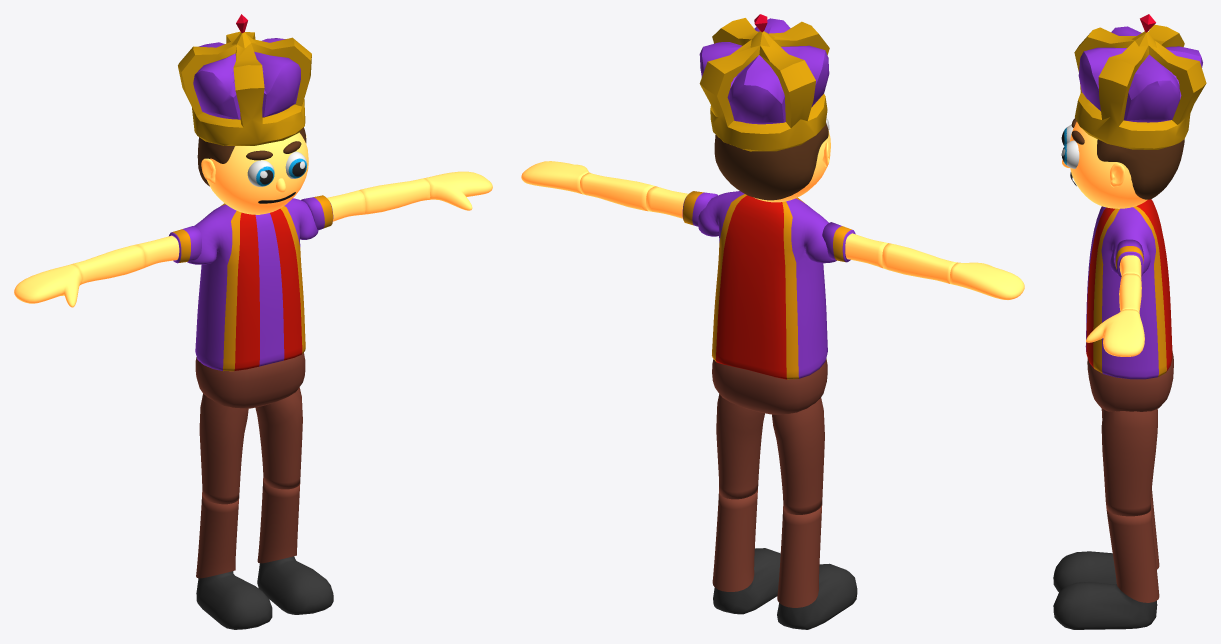
3 views of the same model, side by side, from view 1: azimuth 30°, elevation 25°; view 2: azimuth 150°, elevation 25°; view 3: azimuth 270°, elevation 25° (orthographic). The views are drawn at different scales.
Visible parts, largest first — view 1: body, Crown, head, r_upper_leg, pelvis, l_upper_leg, r_foot, l_foot, r_leg, l_leg, r_hand, l_hand (+4 smaller); view 2: body, Crown, head, r_upper_leg, pelvis, l_upper_leg, r_leg, l_leg, r_foot, l_foot, r_hand, r_forearm (+4 smaller); view 3: Crown, body, head, l_upper_leg, l_foot, l_leg, pelvis, l_hand, r_foot, l_arm, l_forearm, r_leg.
Part boxes in pixels (x1=…): body: x1=187, y1=198, x2=318, y2=371; Crown: x1=178, y1=14, x2=311, y2=145; head: x1=197, y1=117, x2=308, y2=214; r_upper_leg: x1=199, y1=393, x2=248, y2=504; pelvis: x1=195, y1=352, x2=305, y2=408; l_upper_leg: x1=255, y1=387, x2=302, y2=489; r_foot: x1=196, y1=571, x2=272, y2=629; l_foot: x1=257, y1=556, x2=333, y2=614; r_leg: x1=196, y1=495, x2=238, y2=578; l_leg: x1=257, y1=478, x2=299, y2=563; r_hand: x1=14, y1=264, x2=82, y2=307; l_hand: x1=424, y1=171, x2=492, y2=210; body: x1=698, y1=191, x2=836, y2=379; Crown: x1=699, y1=14, x2=829, y2=151; head: x1=714, y1=118, x2=830, y2=202; r_upper_leg: x1=772, y1=397, x2=824, y2=514; pelvis: x1=712, y1=358, x2=827, y2=414; l_upper_leg: x1=716, y1=394, x2=764, y2=499; r_leg: x1=777, y1=505, x2=822, y2=607; l_leg: x1=712, y1=489, x2=757, y2=591; r_foot: x1=777, y1=563, x2=857, y2=629; l_foot: x1=713, y1=548, x2=780, y2=614; r_hand: x1=949, y1=262, x2=1024, y2=299; r_forearm: x1=882, y1=243, x2=957, y2=283; Crown: x1=1074, y1=14, x2=1206, y2=149; body: x1=1085, y1=199, x2=1172, y2=379; head: x1=1061, y1=122, x2=1184, y2=208; l_upper_leg: x1=1101, y1=409, x2=1157, y2=516; l_foot: x1=1053, y1=581, x2=1157, y2=629; l_leg: x1=1106, y1=510, x2=1159, y2=602; pelvis: x1=1087, y1=351, x2=1173, y2=411; l_hand: x1=1086, y1=309, x2=1144, y2=356; r_foot: x1=1053, y1=551, x2=1116, y2=592; l_arm: x1=1114, y1=239, x2=1143, y2=279; l_forearm: x1=1119, y1=273, x2=1141, y2=314; r_leg: x1=1151, y1=489, x2=1159, y2=569.
Bounding box in the file's own units: 3.19 × 3.73 × 0.8747.
12 materials, 2 textured.
